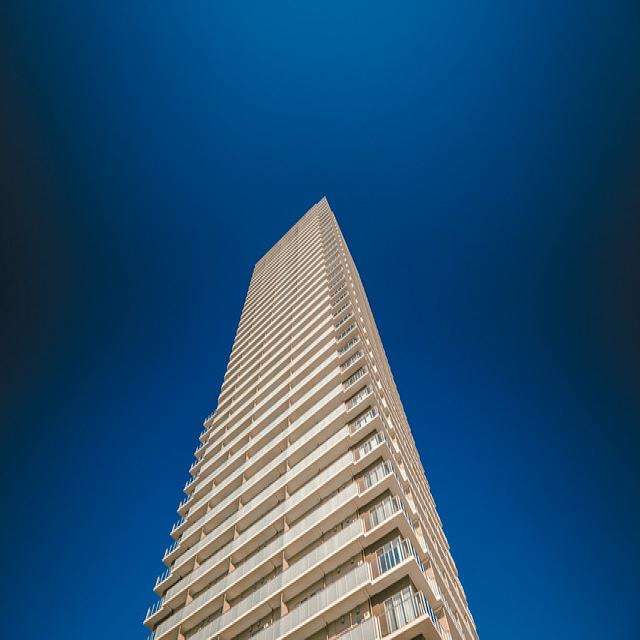building: (140, 186, 489, 640)
